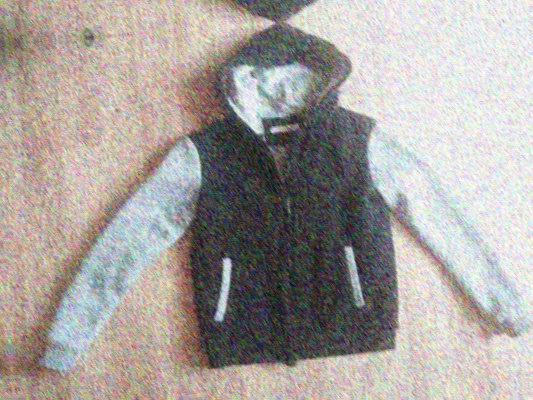Hoodie: (23, 10, 533, 400), (0, 0, 516, 36)
